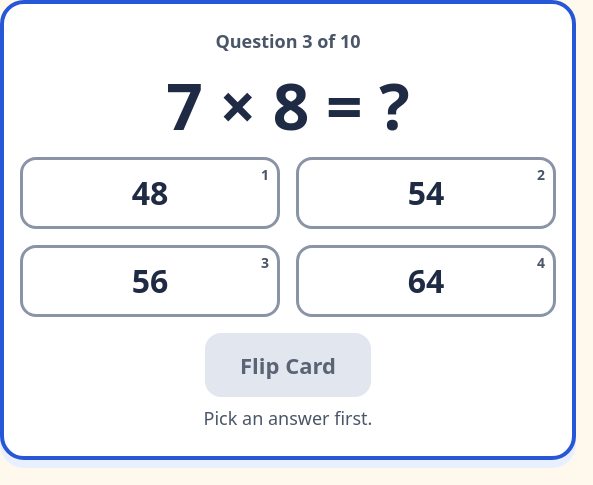
answer selection › shows the selection with a check mark, not only colour
The width and height of the screenshot is (593, 485).
Step 1. Click the button "64 4" → click(426, 281), box left=296, top=245, right=556, bottom=317
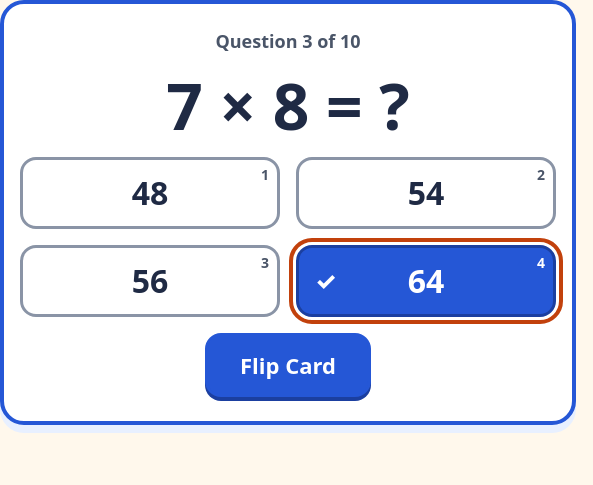
Expected: the text with class "answer-choice__check" reads "✓", left=315, top=264, right=336, bottom=297
